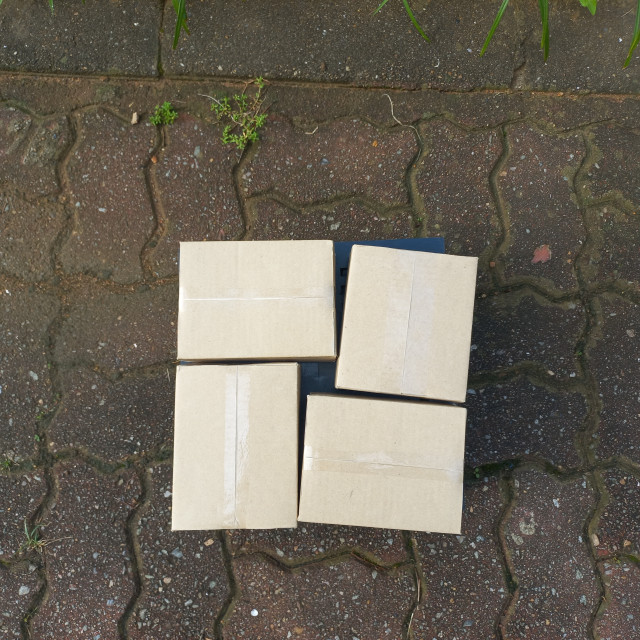box: (105, 297, 246, 470), (237, 334, 395, 483), (108, 169, 277, 301), (276, 177, 400, 338)
